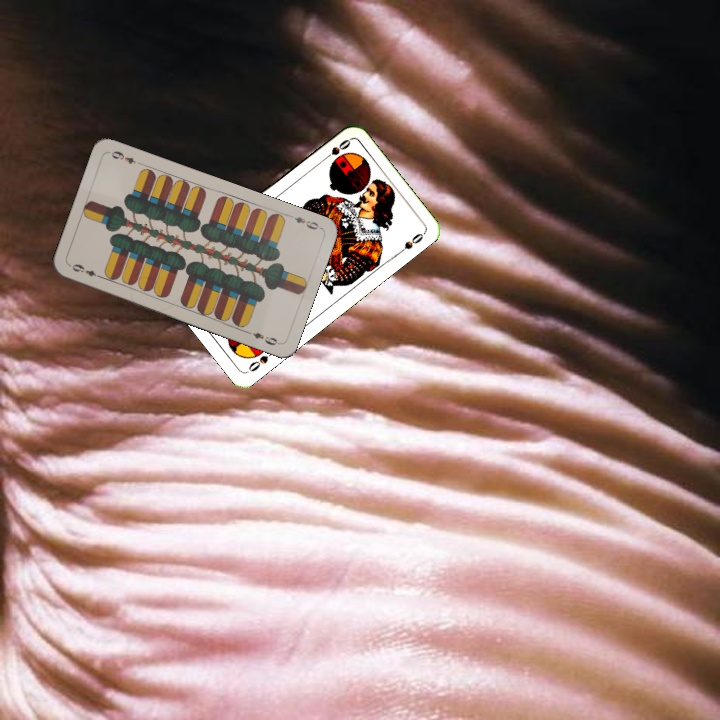E9: (284, 211, 323, 232), (68, 260, 105, 281)
SO: (318, 135, 353, 165), (244, 346, 278, 375)
